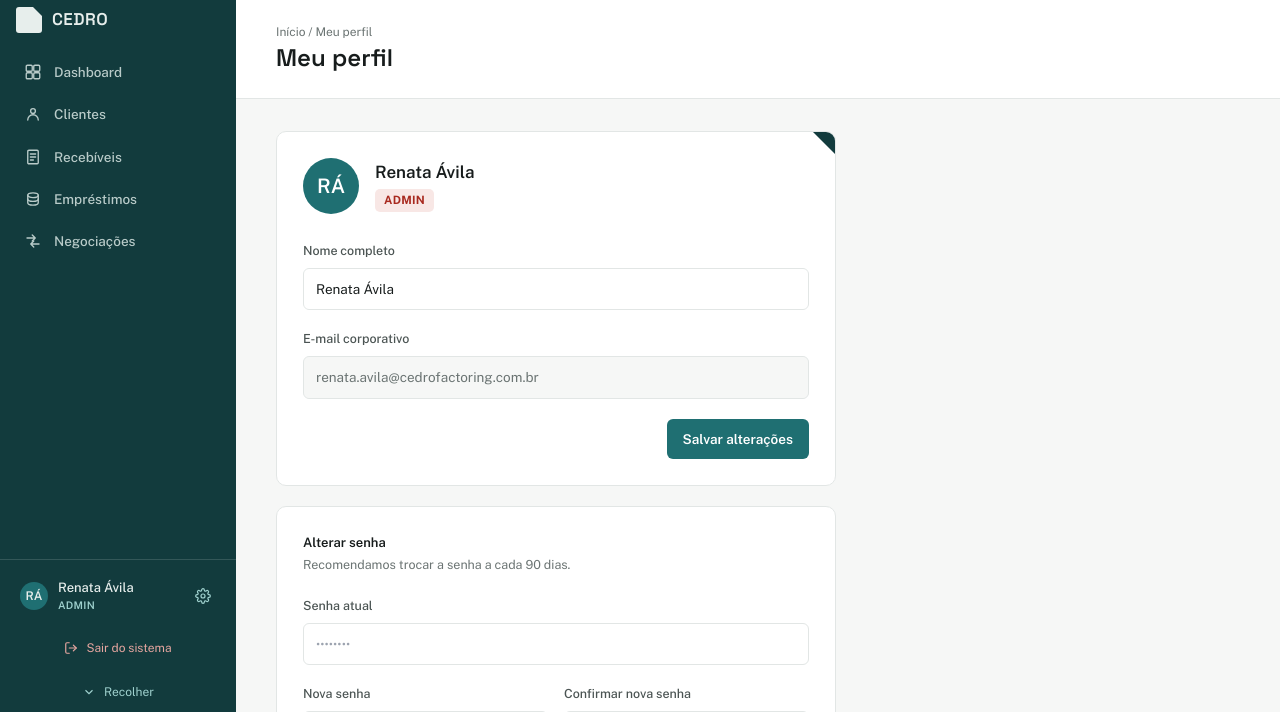
Test: MeuPerfilPage › shows an inline error on the senha atual field when the API returns 401
Expected: the field showing "Renata Ávila" is shown, [303,268,809,310]
Type "senhaErrada" into the password field labelled "Senha atual" at (556, 644), box [303,623,809,665]
(page scrolled)
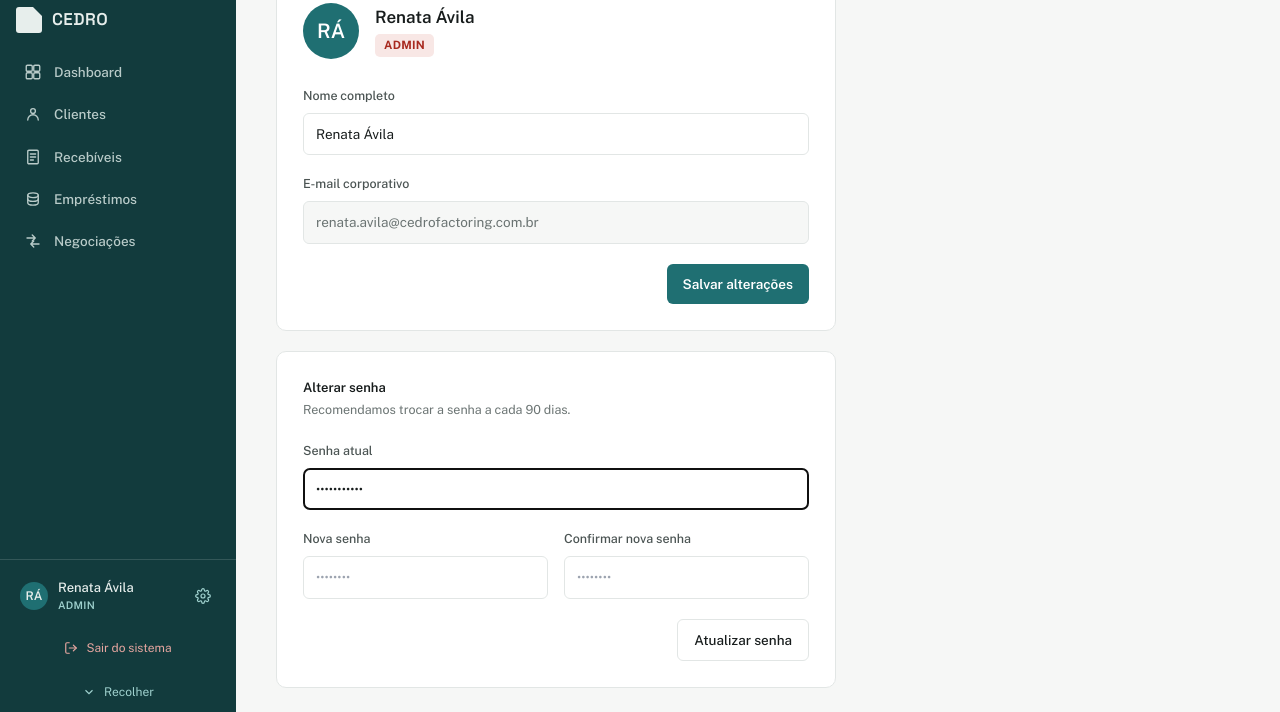
Type "novaSenha123" into the password field labelled "Nova senha" at (426, 577), box [303,556,548,599]
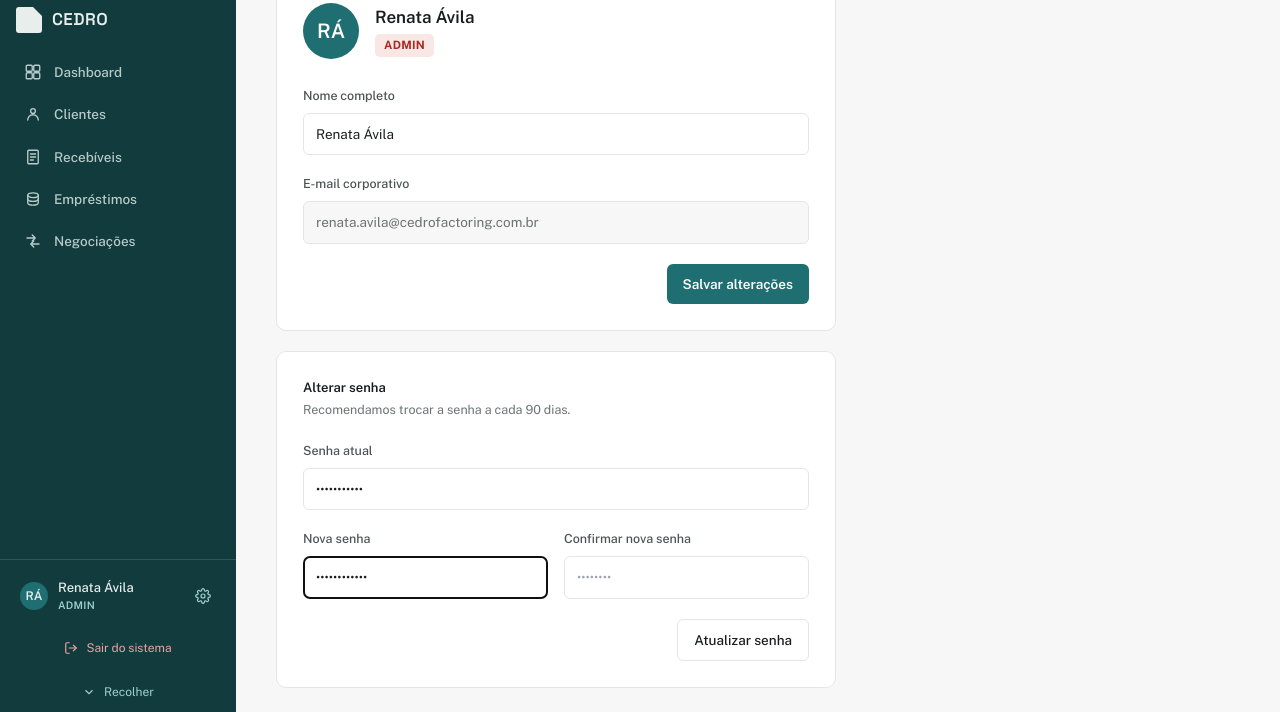
Type "novaSenha123" into the password field labelled "Confirmar nova senha" at (686, 577), box [564,556,809,599]
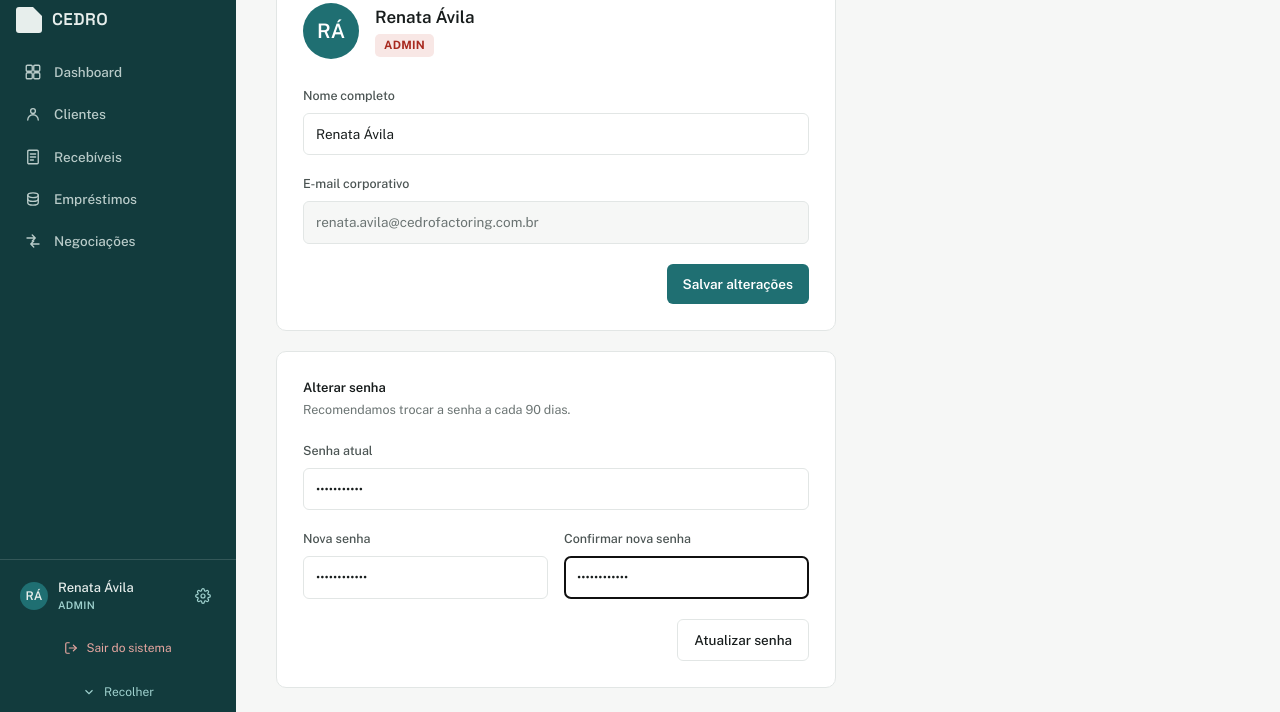
Click the button "Atualizar senha" at (743, 640), box [677,618,809,661]
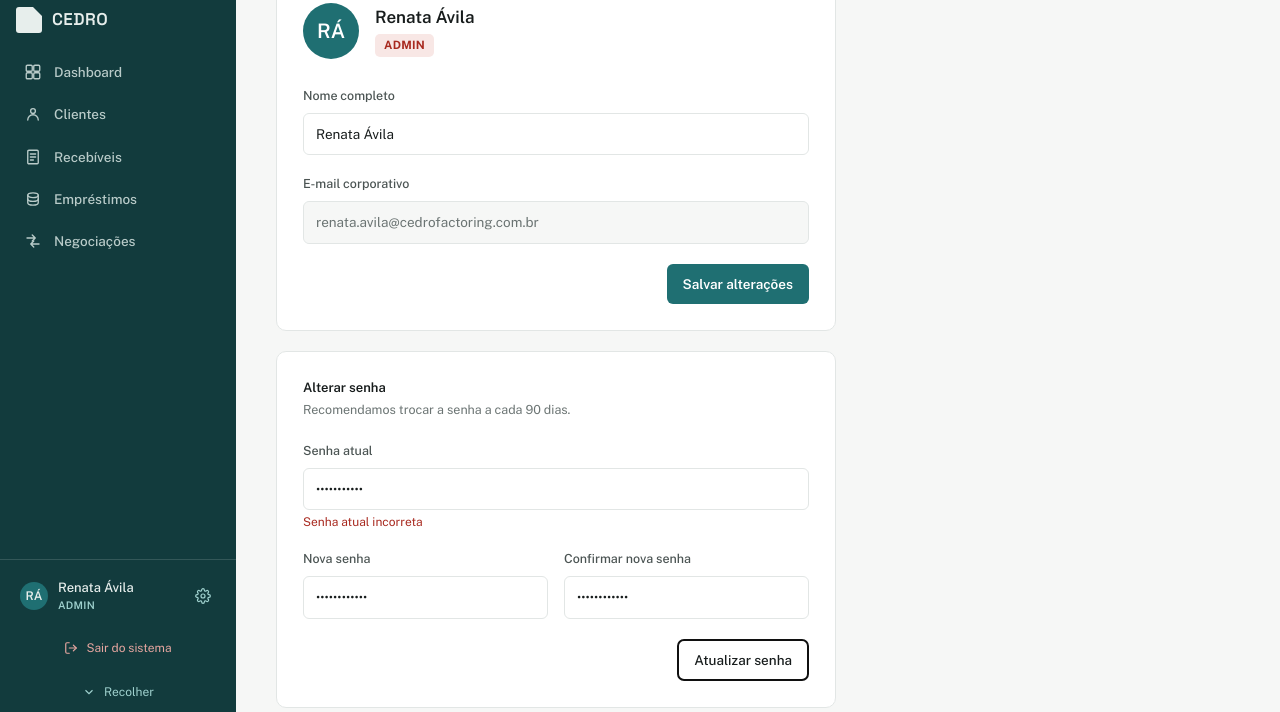
Expected: the text "Senha atual incorreta" is shown, [303,515,423,529]
